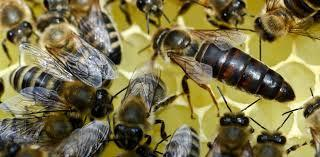Queen-Bee: (155, 21, 298, 106)
worker-bee: (10, 56, 111, 121), (41, 9, 116, 82), (112, 62, 168, 147)
